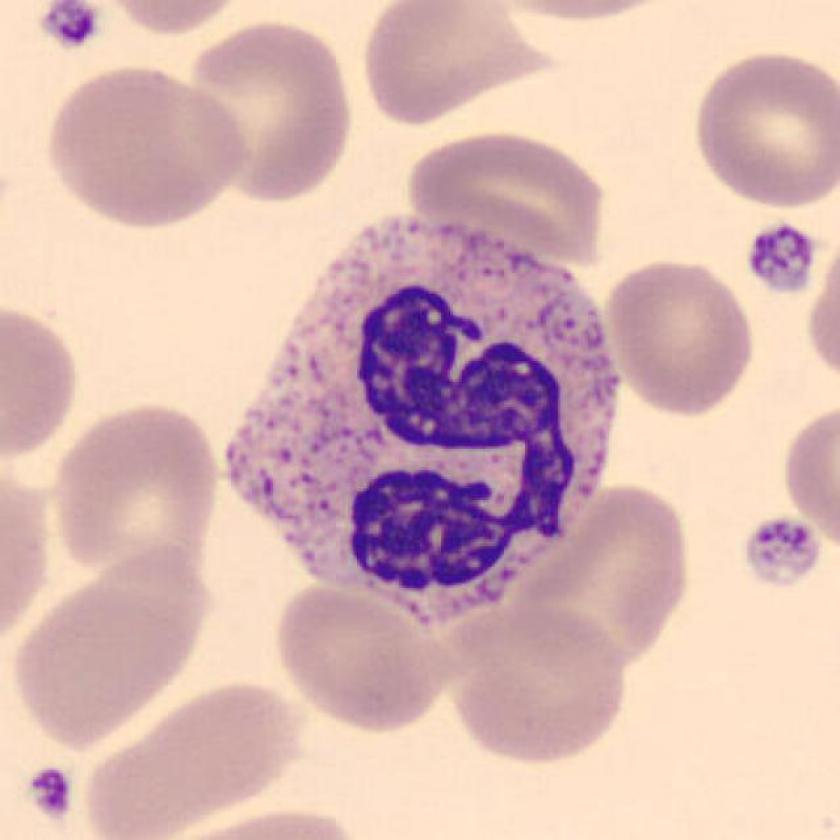neutrophil: (226, 216, 620, 626)
